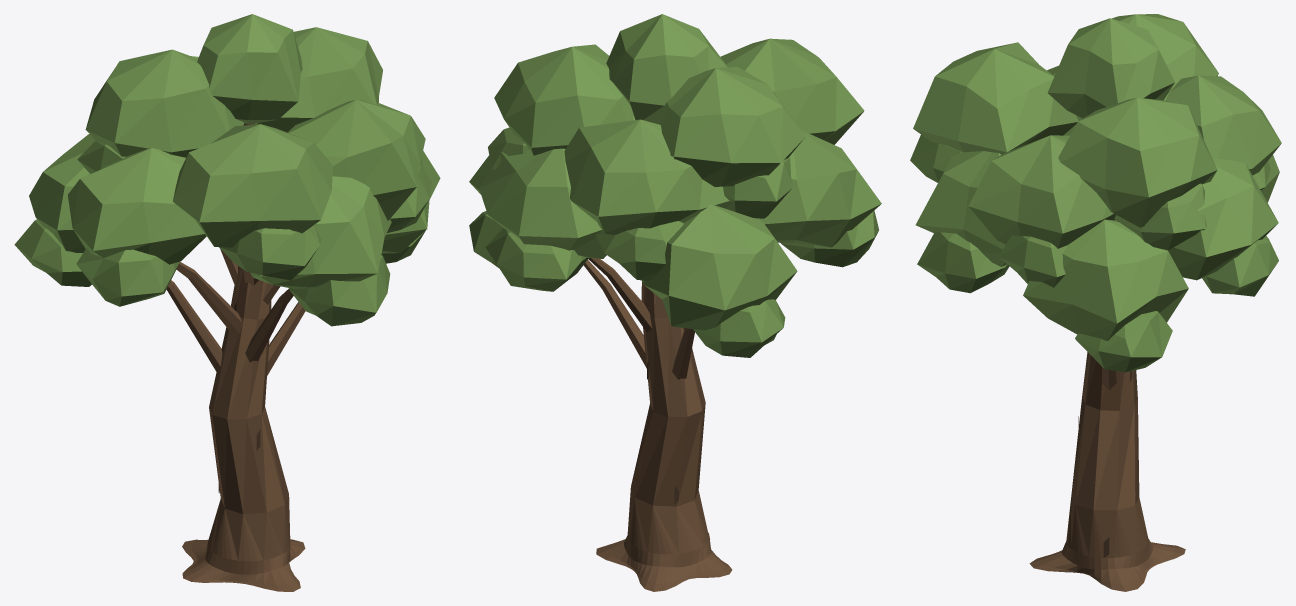
The model's file is oak_spring.glb.
The picture shows the model from 3 angles, left to right: view 1: azimuth 30°, elevation 25°; view 2: azimuth 150°, elevation 25°; view 3: azimuth 270°, elevation 25°; orthographic projection.
Parts seen in each view (by area): view 1: leaves, branches; view 2: leaves, branches; view 3: leaves, branches.
Part boxes in pixels (<box>): leaves: <box>14,14,440,326</box>; branches: <box>166,123,305,591</box>; leaves: <box>469,14,881,357</box>; branches: <box>583,258,732,591</box>; leaves: <box>910,14,1281,372</box>; branches: <box>1029,352,1185,591</box>.
Size of the model in its own units: 3.5 by 4.8 by 2.97.
